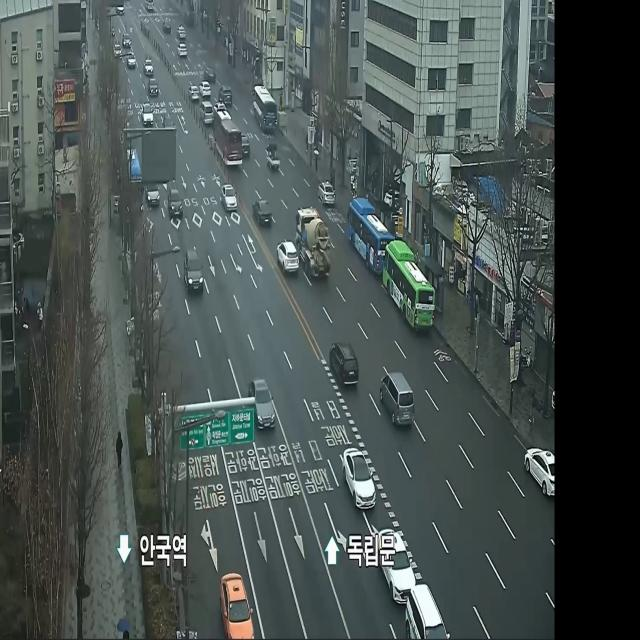car: (375, 232, 443, 341), (342, 189, 400, 285), (211, 96, 246, 172), (251, 75, 279, 134)
motorcycle: (401, 570, 452, 640), (214, 566, 255, 640), (377, 365, 417, 437), (518, 433, 556, 508), (377, 532, 417, 602), (341, 441, 378, 514), (248, 372, 279, 438), (327, 335, 360, 395), (274, 234, 300, 286), (183, 245, 206, 296), (249, 192, 276, 231), (219, 178, 242, 218), (167, 184, 184, 223), (317, 178, 337, 210)
truck: (265, 141, 282, 174)
